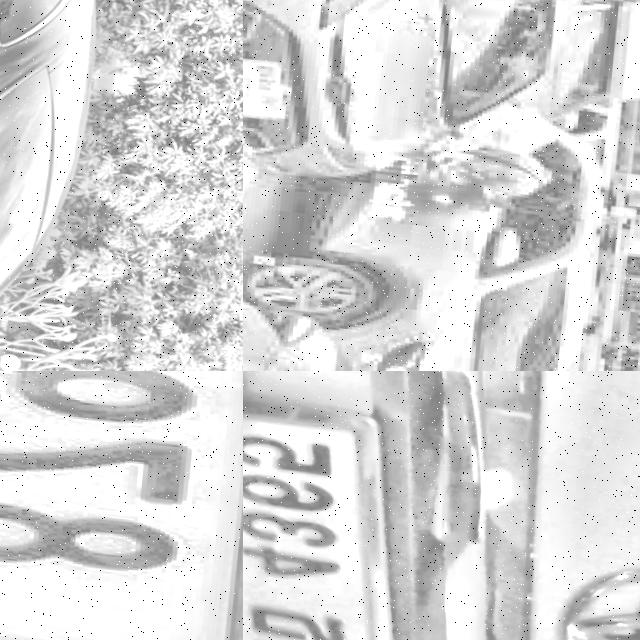license-plate: (0, 371, 243, 640), (243, 414, 382, 640), (243, 49, 299, 120)
